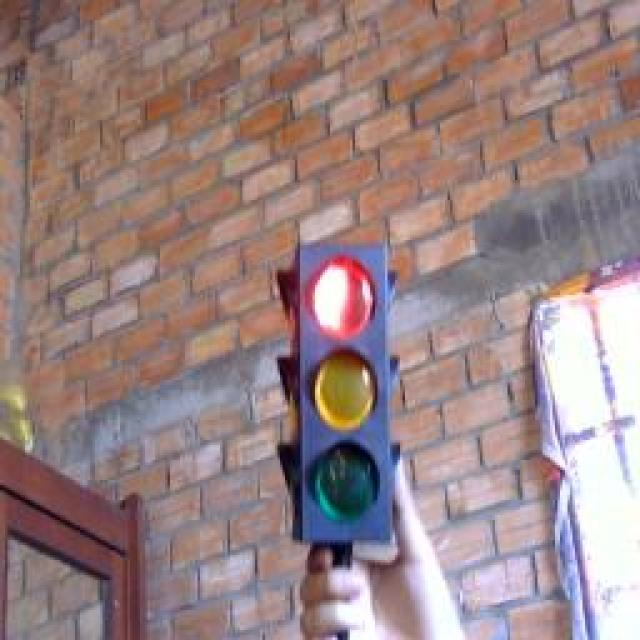-: (302, 246, 382, 351)
